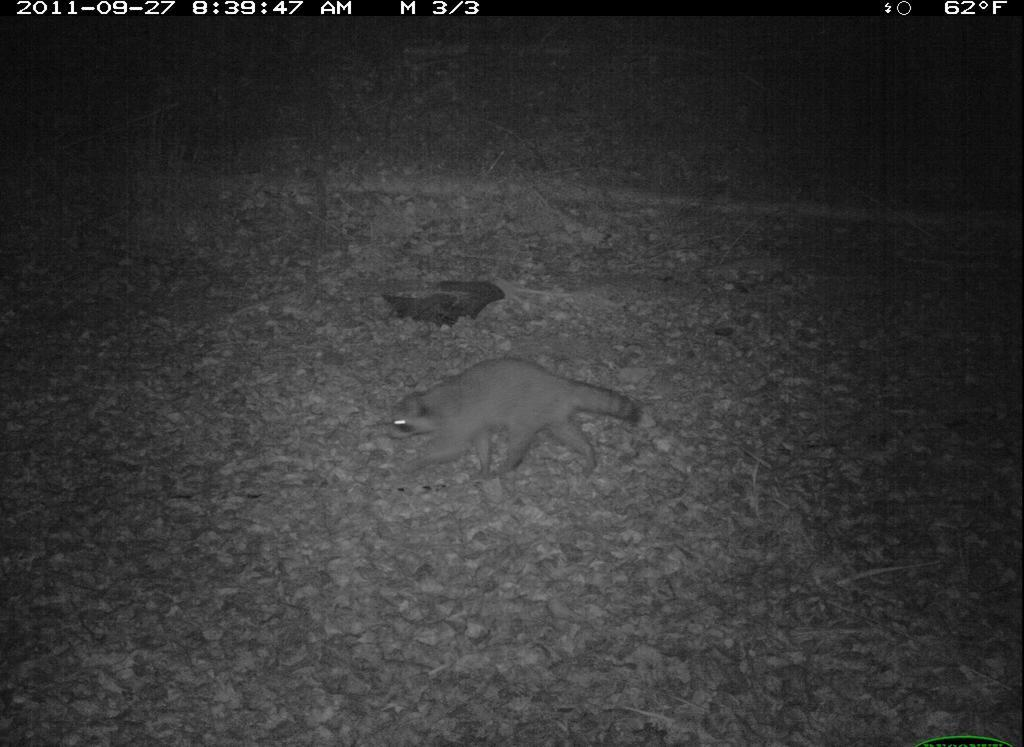raccoon: (369, 341, 656, 493)
